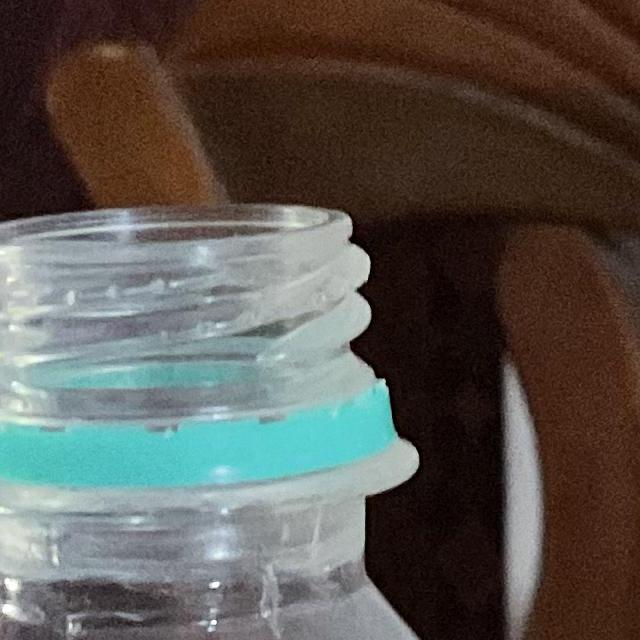open-cap: (0, 186, 405, 499)
